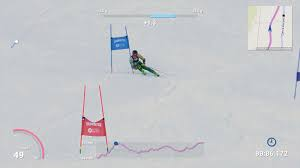skier: (123, 43, 165, 84)
